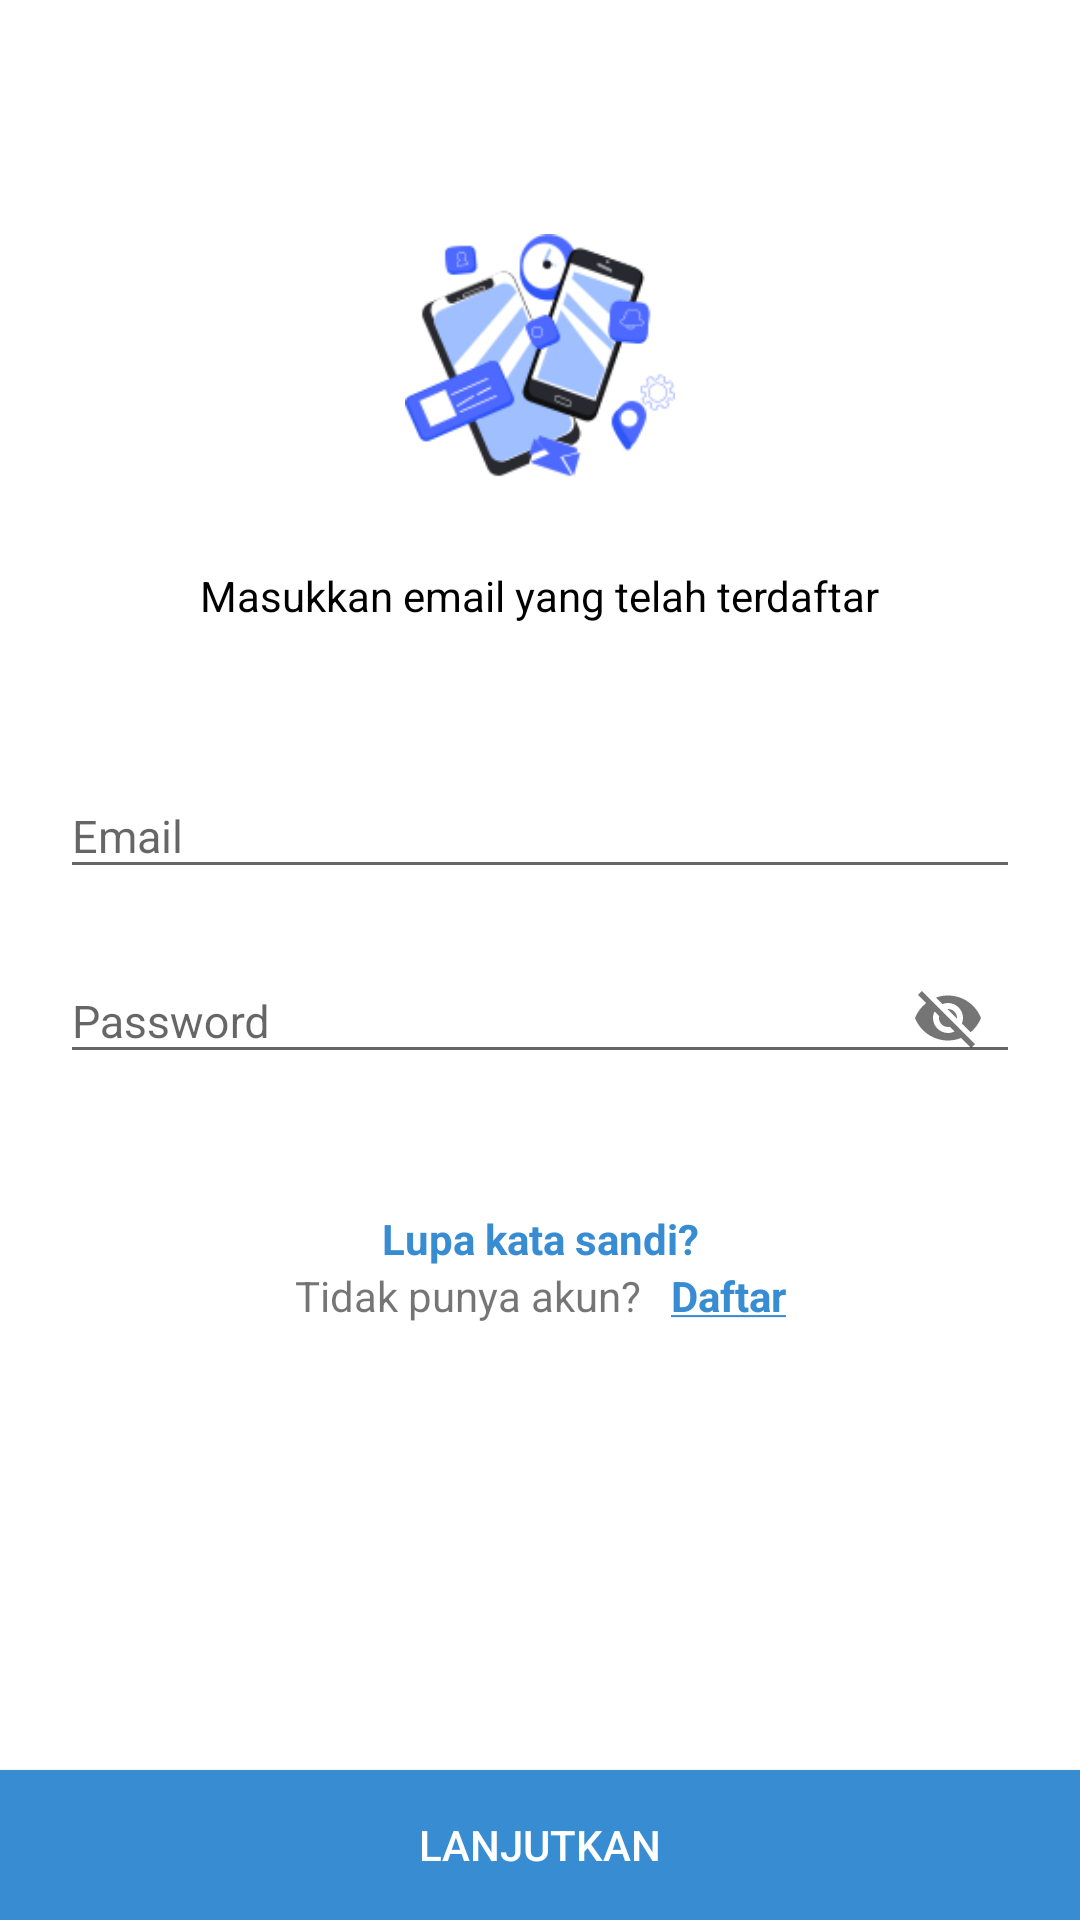

Named icons in this screenshot (1080w x 1920h) and their centers, point (x, y):
phone: point (540, 355)
